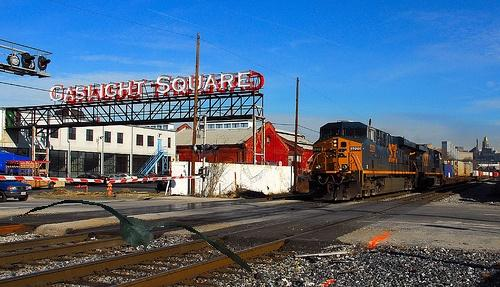tampered: (10, 201, 252, 273)
